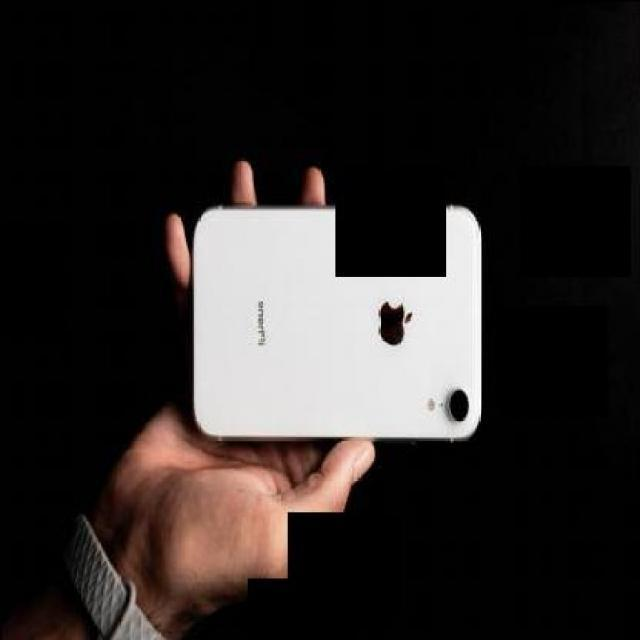phone: (193, 206, 487, 442)
